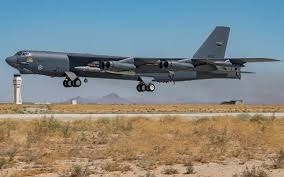maybay_muctieu: (13, 32, 273, 96)
ten_lua: (75, 65, 139, 78)
